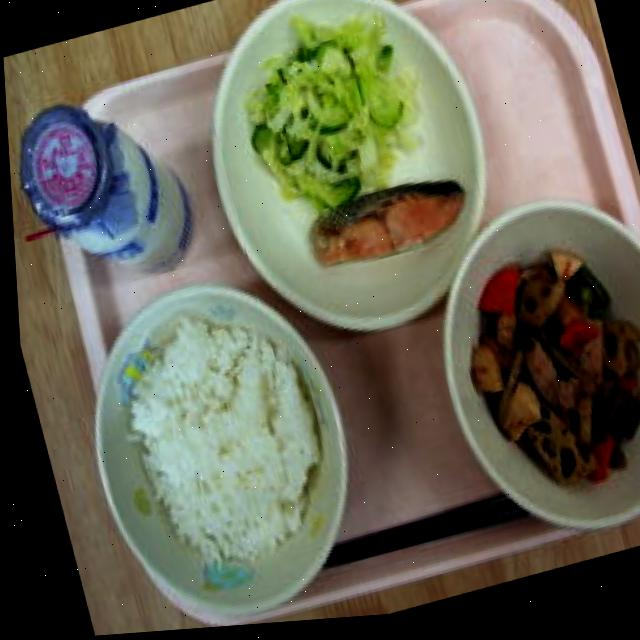熟制海鲜: (281, 170, 477, 279)
